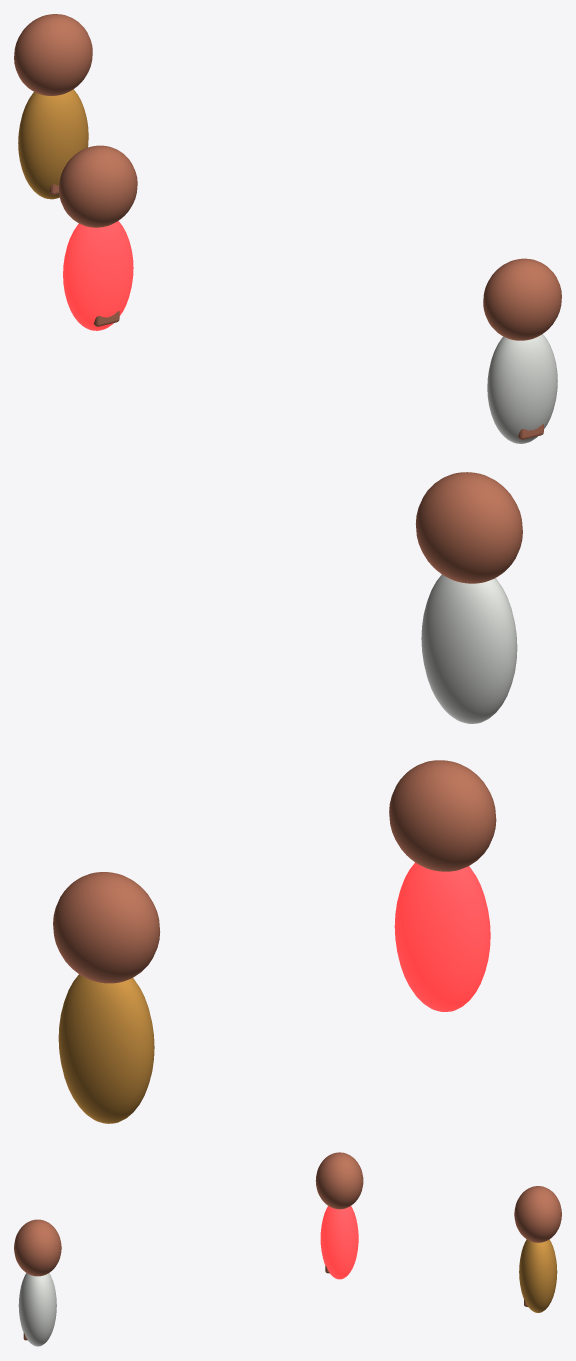
Rendered from BHC_NPC_RESTAURANT_STAFF.fbx.
3 views of the same model, one above another, from view 1: azimuth 30°, elevation 25°; view 2: azimuth 150°, elevation 25°; view 3: azimuth 270°, elevation 25° (orthographic). The views are drawn at different scales.
Parts seen in each view (by area): view 1: SK_BHC_Staff_Chef_Body, SK_BHC_Staff_Server_Body, SK_BHC_Staff_Host_Body, SK_BHC_Staff_Chef_Head, SK_BHC_Staff_Server_Head, SK_BHC_Staff_Host_Head; view 2: SK_BHC_Staff_Host_Body, SK_BHC_Staff_Chef_Body, SK_BHC_Staff_Server_Body, SK_BHC_Staff_Chef_Head, SK_BHC_Staff_Server_Head, SK_BHC_Staff_Host_Head; view 3: SK_BHC_Staff_Server_Body, SK_BHC_Staff_Host_Body, SK_BHC_Staff_Chef_Body, SK_BHC_Staff_Chef_Head, SK_BHC_Staff_Server_Head, SK_BHC_Staff_Host_Head.
Boxes of the visible parts, x1,y1,x2,y2 form: SK_BHC_Staff_Chef_Body: (487, 334, 557, 443); SK_BHC_Staff_Server_Body: (63, 221, 133, 330); SK_BHC_Staff_Host_Body: (18, 89, 88, 199); SK_BHC_Staff_Chef_Head: (483, 258, 561, 340); SK_BHC_Staff_Server_Head: (59, 145, 137, 227); SK_BHC_Staff_Host_Head: (14, 14, 92, 95); SK_BHC_Staff_Host_Body: (58, 974, 154, 1123); SK_BHC_Staff_Chef_Body: (421, 574, 517, 723); SK_BHC_Staff_Server_Body: (394, 862, 490, 1011); SK_BHC_Staff_Chef_Head: (415, 472, 522, 583); SK_BHC_Staff_Server_Head: (389, 760, 496, 871); SK_BHC_Staff_Host_Head: (53, 872, 160, 983); SK_BHC_Staff_Server_Body: (320, 1206, 358, 1279); SK_BHC_Staff_Host_Body: (519, 1239, 557, 1312); SK_BHC_Staff_Chef_Body: (18, 1273, 56, 1346); SK_BHC_Staff_Chef_Head: (14, 1219, 61, 1276); SK_BHC_Staff_Server_Head: (315, 1152, 363, 1209); SK_BHC_Staff_Host_Head: (514, 1186, 561, 1242).
Size of the model in its own units: 2.7 by 1.71 by 6.9.
